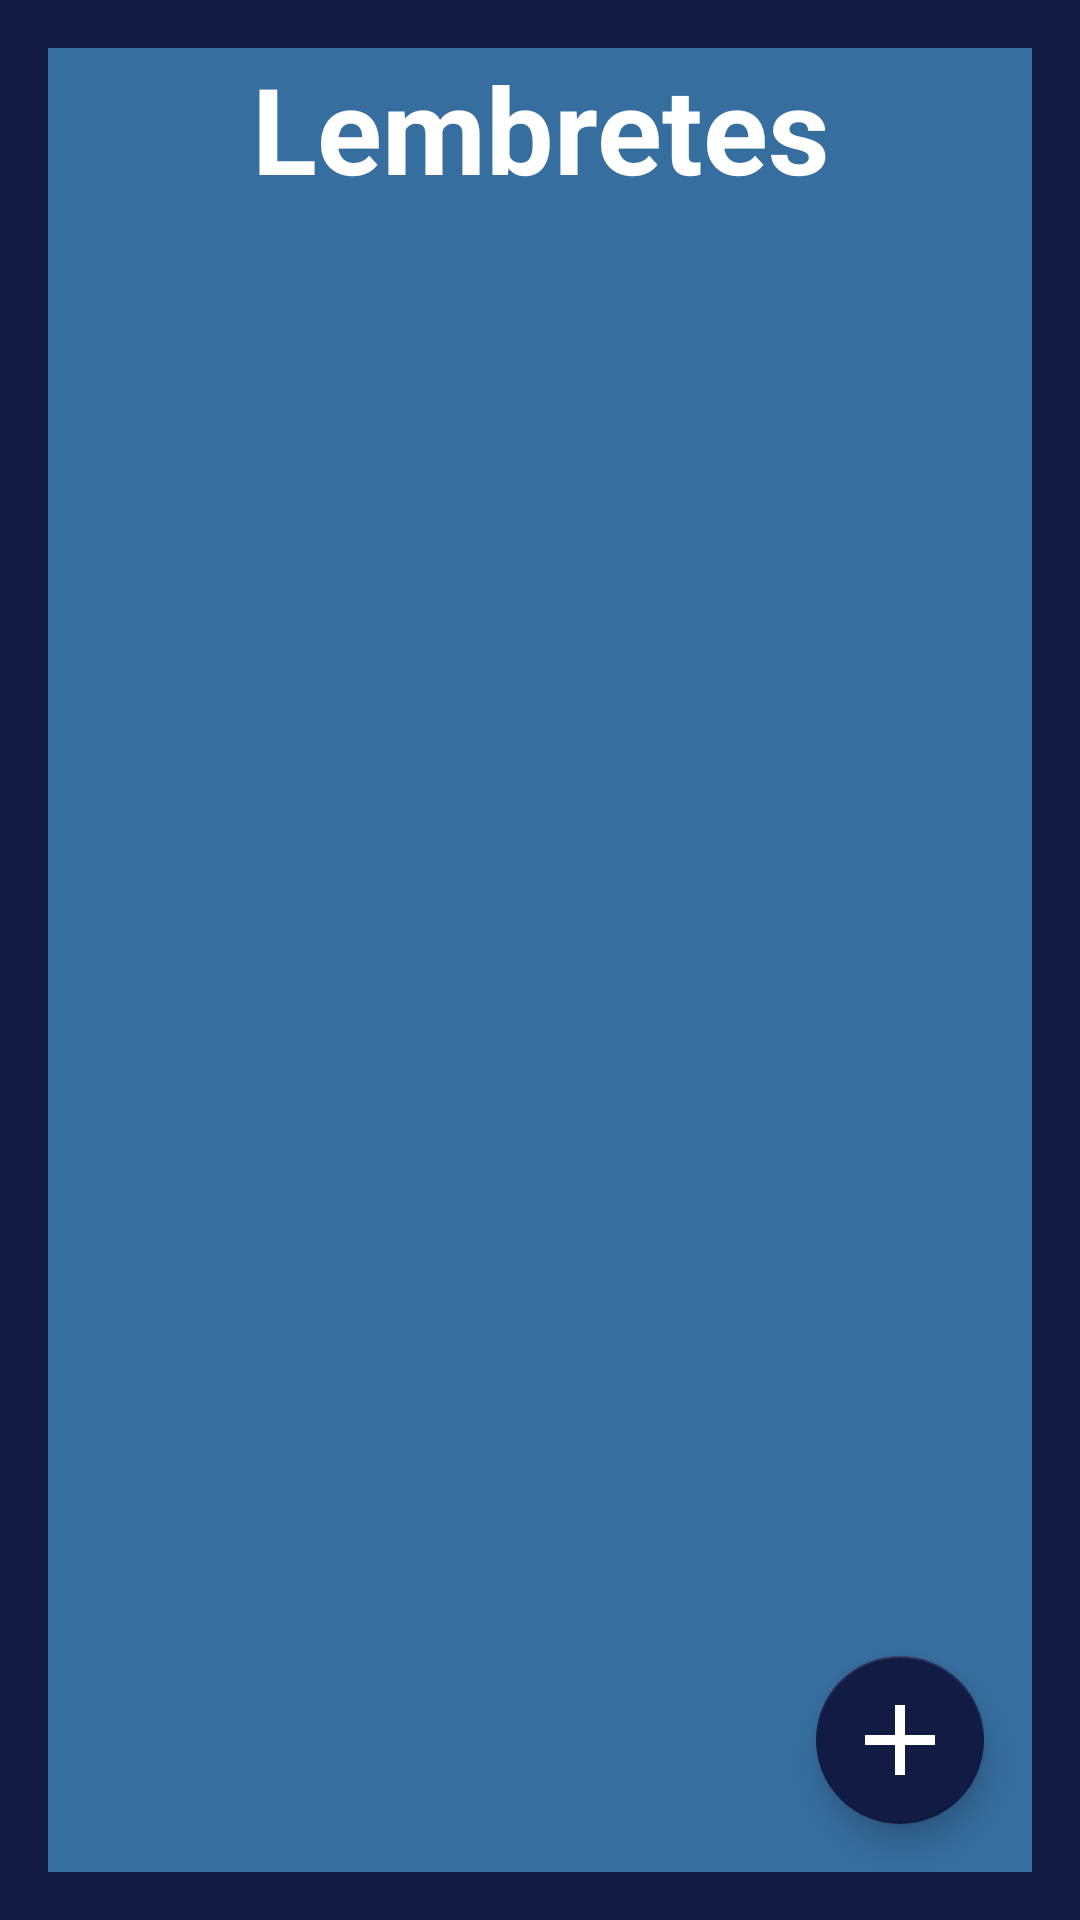

Named icons in this screenshot (1080x1920) and their centers, (x,y):
Add Reminder: (900,1740)
